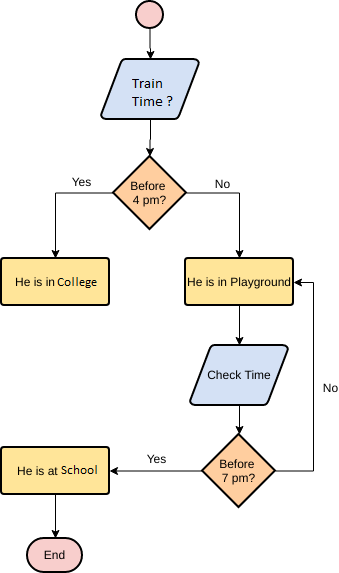arrow: (273, 277, 316, 475), (49, 188, 115, 258), (190, 188, 245, 257), (111, 464, 202, 478), (143, 28, 158, 60), (50, 494, 61, 537), (145, 116, 156, 158), (234, 304, 244, 342), (234, 405, 243, 435)
connection: (134, 1, 165, 29)
data: (97, 55, 201, 122), (188, 341, 290, 408)
decision: (109, 157, 186, 231), (201, 432, 274, 507)
process: (1, 254, 113, 309), (182, 255, 297, 308), (1, 444, 112, 497)
terminator: (25, 535, 84, 571)
text: (184, 272, 295, 290), (128, 74, 174, 112), (10, 273, 100, 292), (14, 461, 99, 481), (217, 455, 257, 490), (127, 180, 168, 207), (206, 367, 271, 383), (67, 174, 94, 188), (41, 548, 67, 561), (144, 451, 168, 464), (320, 378, 339, 393), (211, 176, 231, 188)
